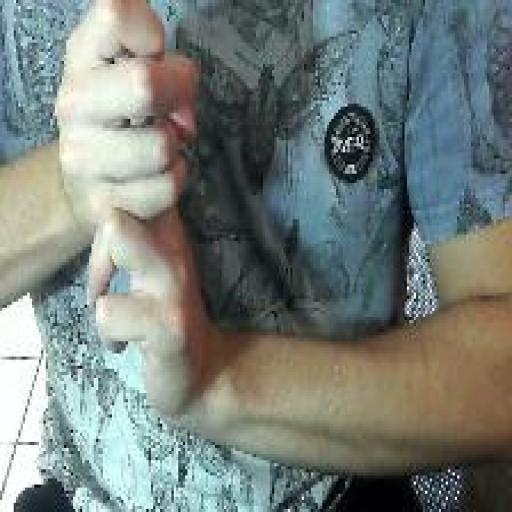Ne -rat-: (50, 0, 220, 442)
